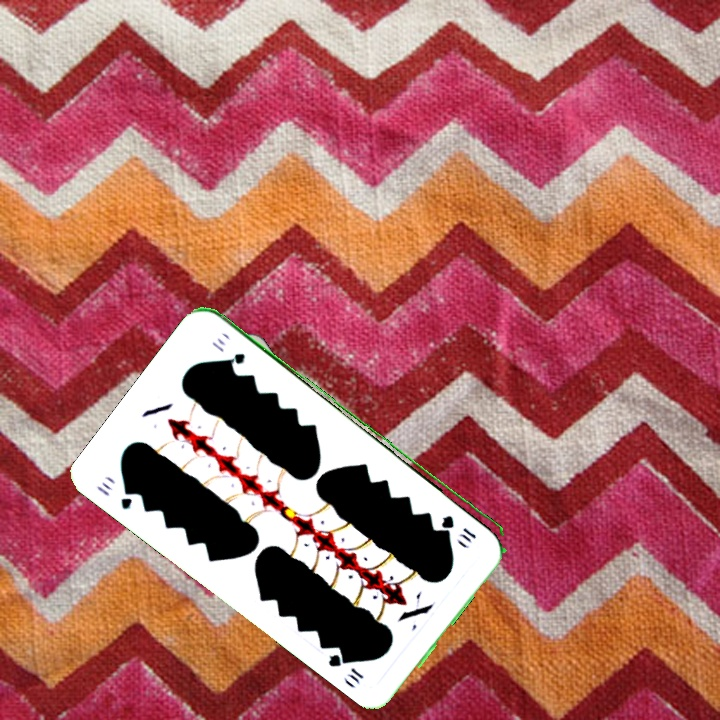G10: (93, 478, 137, 513), (438, 511, 479, 542)
